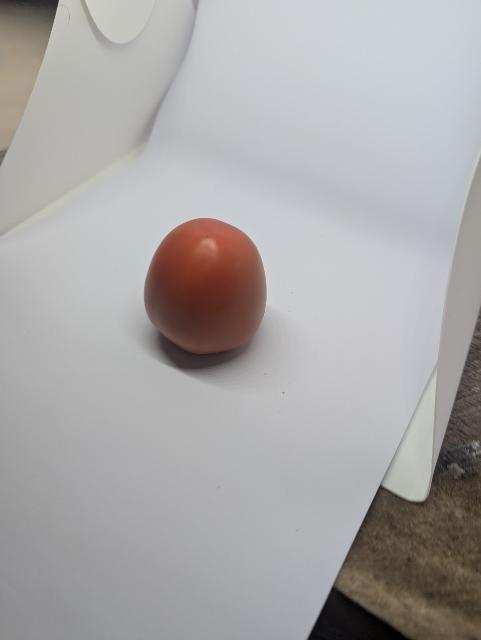red: (136, 212, 274, 362)
